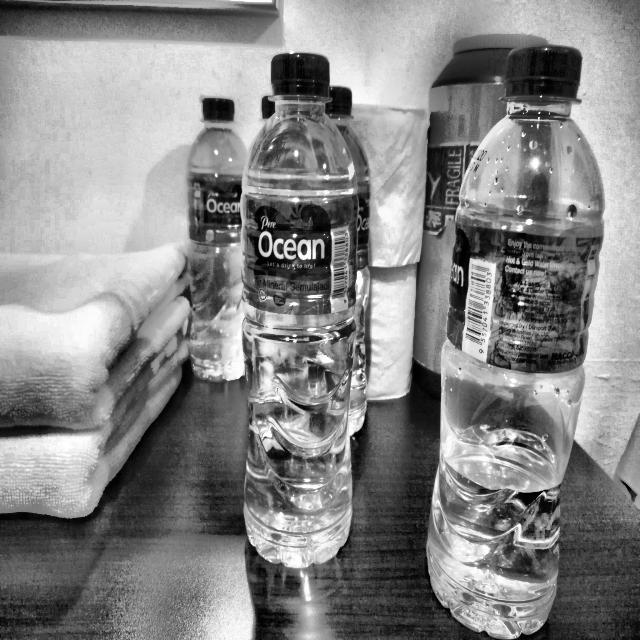waterbottle: (421, 33, 611, 640), (235, 43, 363, 579), (238, 74, 328, 456), (302, 76, 382, 448), (177, 81, 257, 390)
